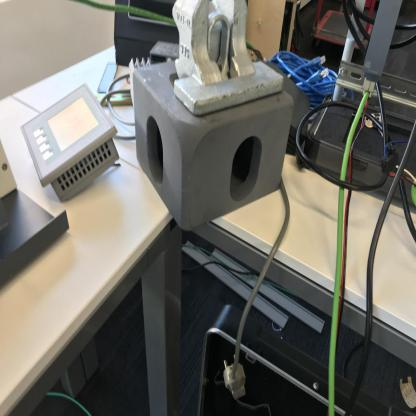CornerCasting: (133, 50, 294, 239)
Twistlock: (170, 0, 286, 122)
